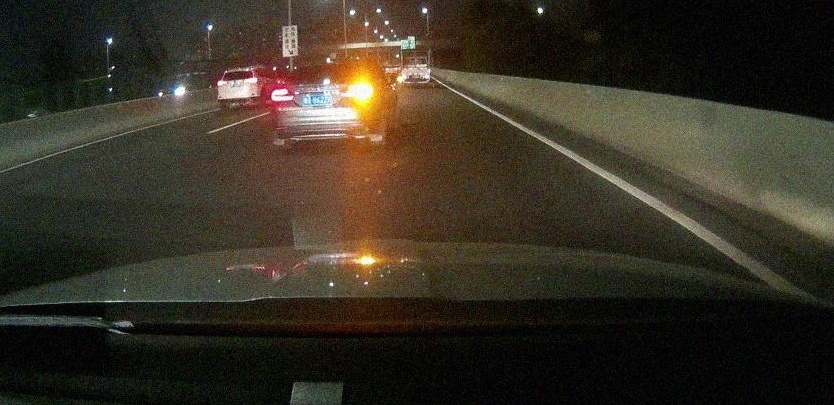L_light: (270, 87, 295, 102), (217, 80, 228, 87)
R_light: (347, 83, 374, 98), (244, 78, 258, 84)
T_light: (319, 63, 337, 68), (233, 71, 242, 74)
night-no: (217, 66, 259, 109)
night-right: (270, 60, 381, 150)
